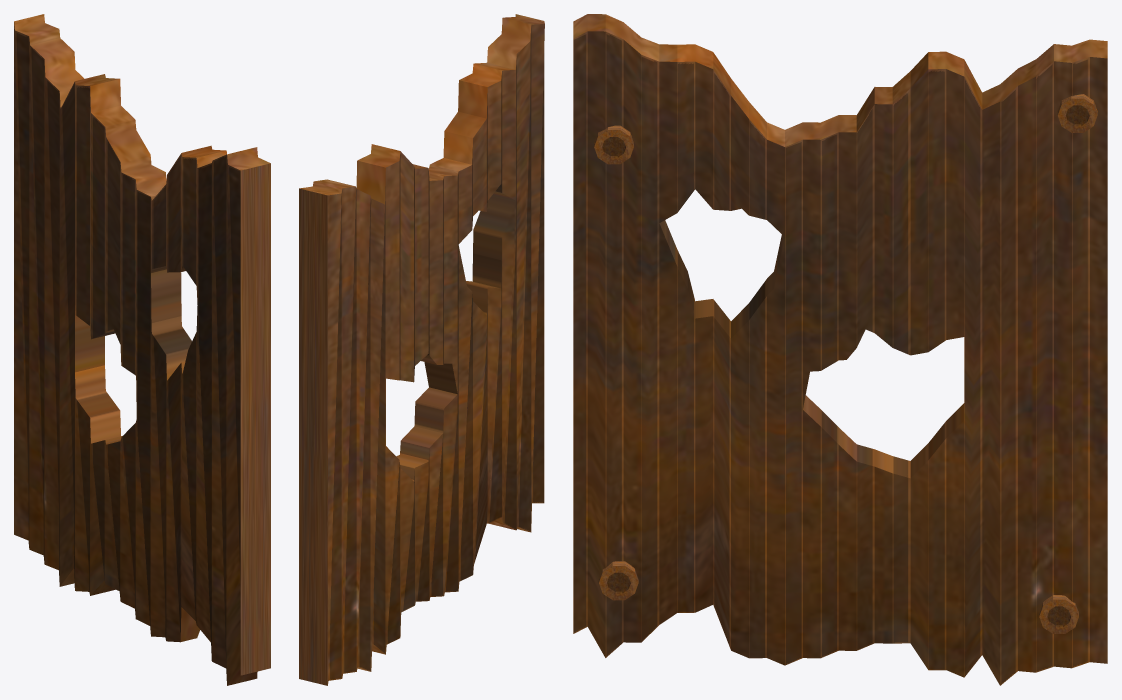
File: Metal Plate 3.fbx
The picture shows the model from 3 angles, left to right: view 1: azimuth 30°, elevation 25°; view 2: azimuth 150°, elevation 25°; view 3: azimuth 270°, elevation 25°; orthographic projection. The views are drawn at different scales.
Parts seen in each view (by area): view 1: Cube.001; view 2: Cube.001; view 3: Cube.001.
Boxes of the visible parts, x1,y1,x2,y2 form: Cube.001: (14,14,270,685); Cube.001: (299,14,544,685); Cube.001: (573,14,1107,685).
Bounding box in the file's own units: 21.62 × 280 × 208.
